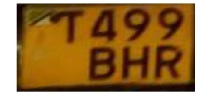T: (58, 9, 86, 46)
